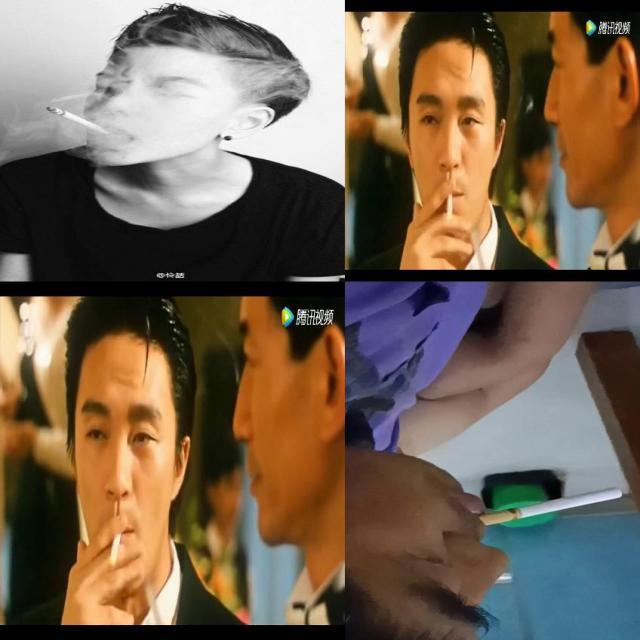smoking: (478, 488, 622, 526), (44, 105, 114, 137), (442, 184, 458, 228), (109, 530, 122, 568)
